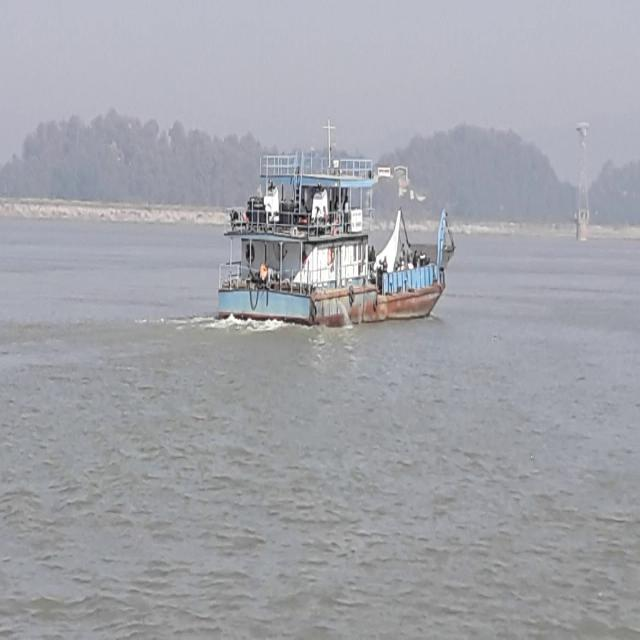fishing boat: (216, 135, 454, 327)
